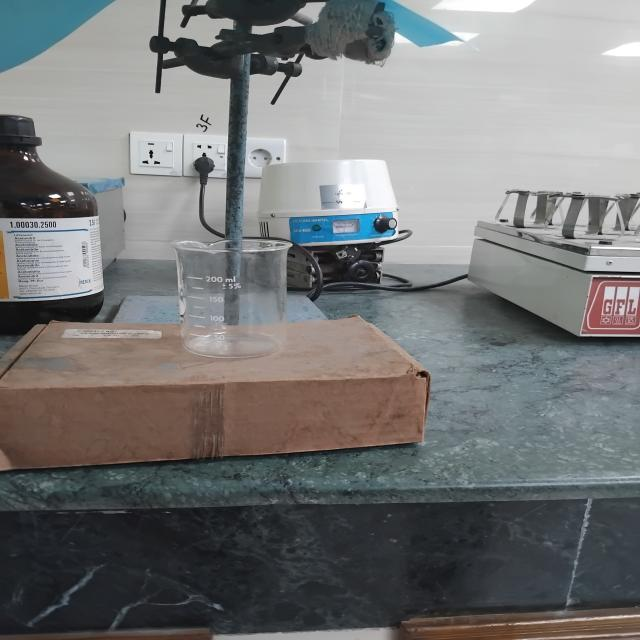Beaker: (146, 207, 312, 376)
